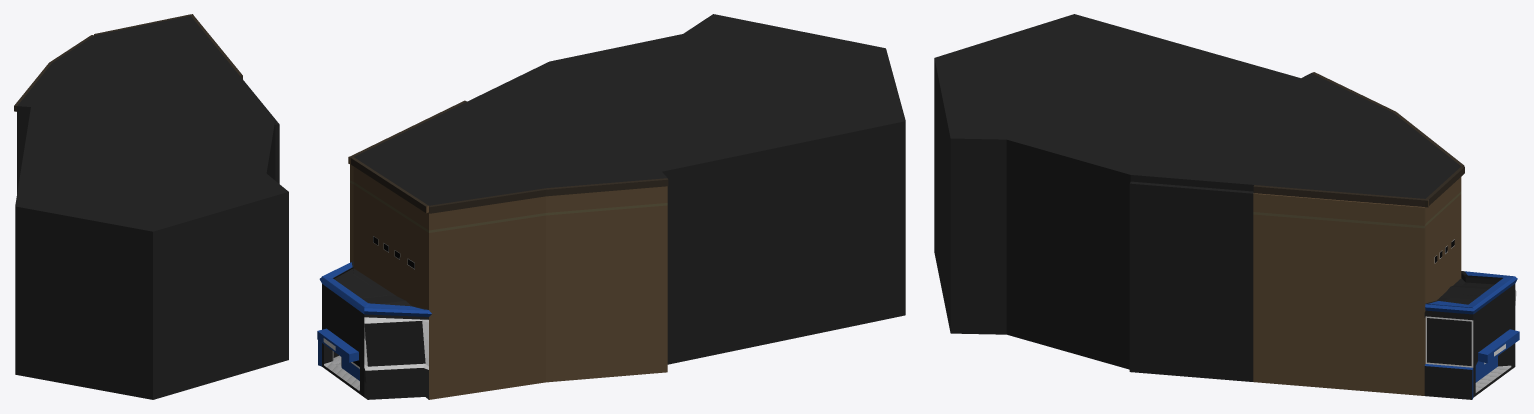
Rendered from Mecca Bingo.fbx.
The picture shows the model from 3 angles, left to right: view 1: azimuth 30°, elevation 25°; view 2: azimuth 150°, elevation 25°; view 3: azimuth 270°, elevation 25°; orthographic projection. The views are drawn at different scales.
Visible parts, largest first — view 1: Mecca Bingo; view 2: Mecca Bingo; view 3: Mecca Bingo.
Boxes of the visible parts, box(x1,y1,x2,y2) form: Mecca Bingo: box(14, 14, 288, 399); Mecca Bingo: box(317, 14, 905, 399); Mecca Bingo: box(934, 14, 1519, 399).
Bounding box in the file's own units: 4700 × 2388 × 6086.
